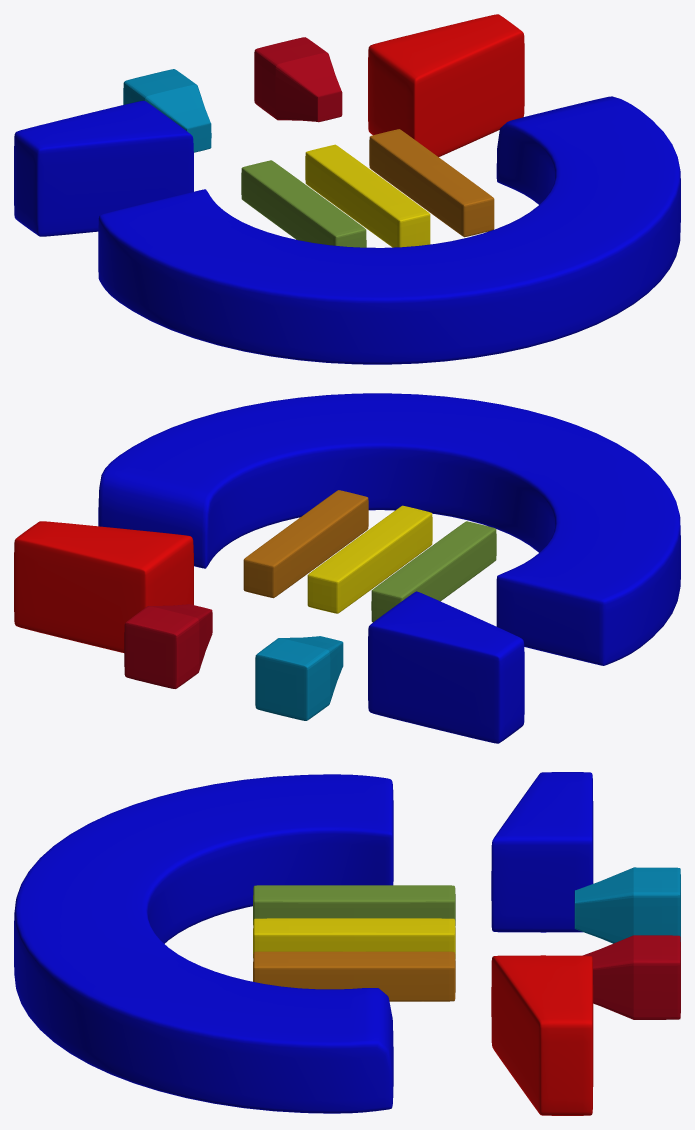
File: C64Wanderer.fbx
3 renders of one model, top to bottom at view 1: azimuth 30°, elevation 25°; view 2: azimuth 150°, elevation 25°; view 3: azimuth 270°, elevation 25°, orthographic. The views are drawn at different scales.
Visible parts, largest first — view 1: Cube.001; view 2: Cube.001; view 3: Cube.001.
Boxes of the visible parts, x1,y1,x2,y2 form: Cube.001: (14, 14, 680, 364); Cube.001: (14, 393, 680, 743); Cube.001: (14, 772, 680, 1115).
Bounding box in the file's own units: 16272 × 2696 × 16866.
